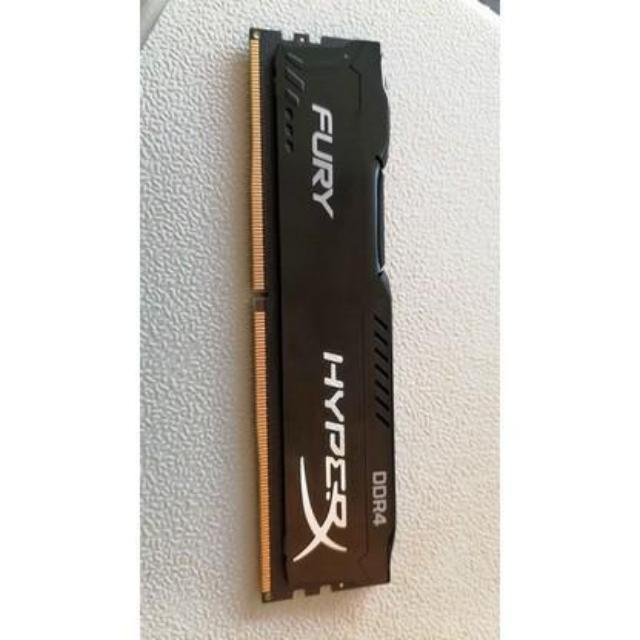RAM: (220, 11, 414, 620)
